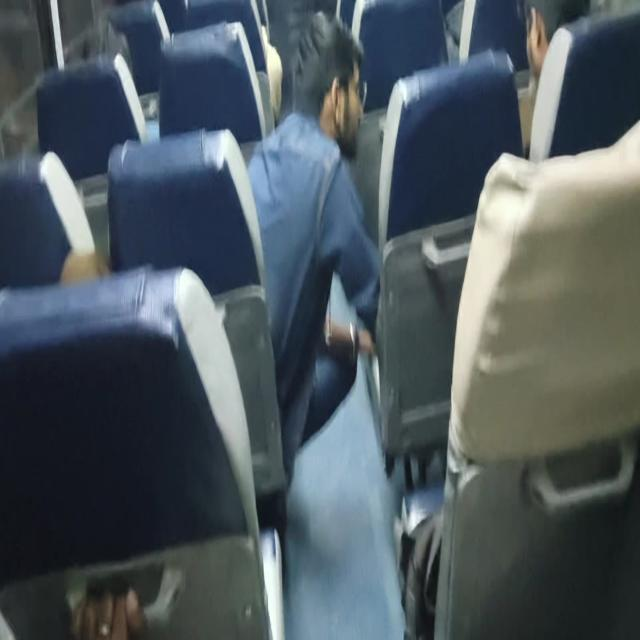person: (313, 47, 376, 155), (81, 16, 139, 93)
